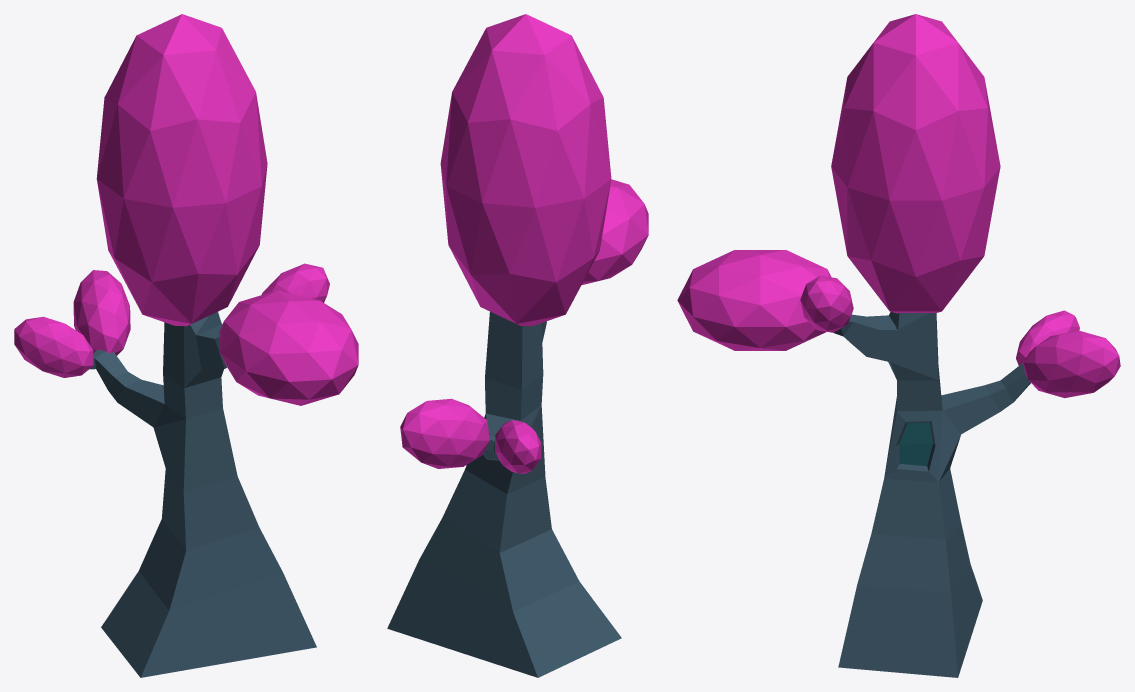
The model's file is arbre.fbx.
The picture shows the model from 3 angles, left to right: view 1: azimuth 30°, elevation 25°; view 2: azimuth 150°, elevation 25°; view 3: azimuth 270°, elevation 25°; orthographic projection. The views are drawn at different scales.
Visible parts, largest first — view 1: Plane; view 2: Plane; view 3: Plane.
Boxes of the visible parts, x1=… form: Plane: x1=14, y1=14, x2=358, y2=677; Plane: x1=387, y1=14, x2=648, y2=677; Plane: x1=677, y1=14, x2=1120, y2=677.
Bounding box in the file's own units: 278 × 808 × 534.
